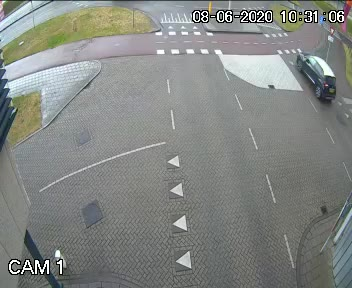car: (285, 42, 340, 116)
